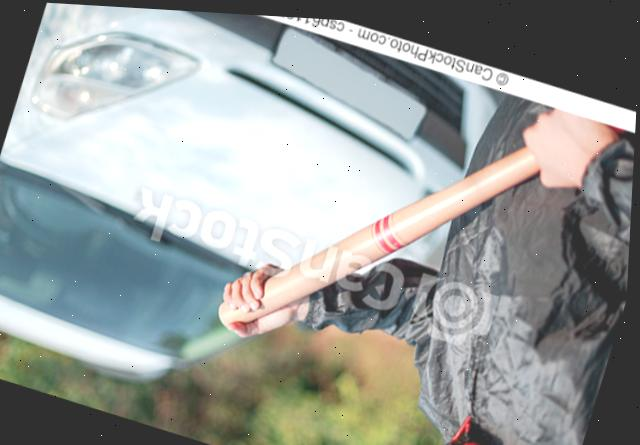baseball bat: (214, 47, 580, 405)
